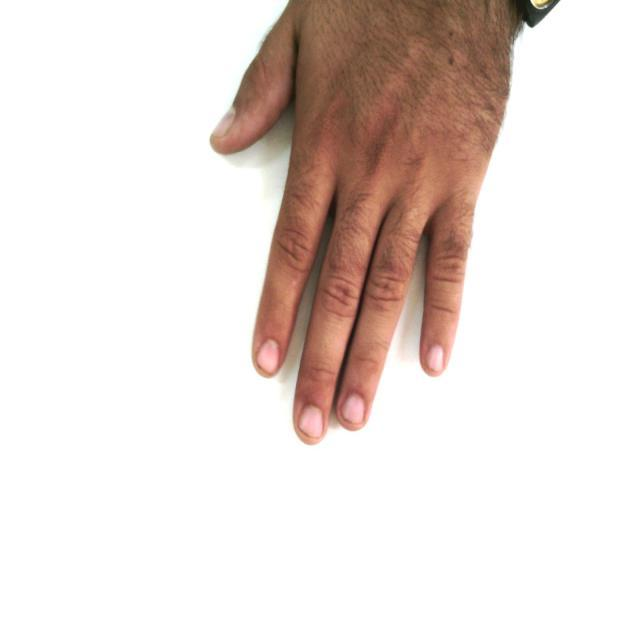Fingernail: (298, 405, 323, 437), (258, 338, 280, 372), (340, 394, 365, 423), (211, 108, 236, 137), (427, 344, 444, 371)
